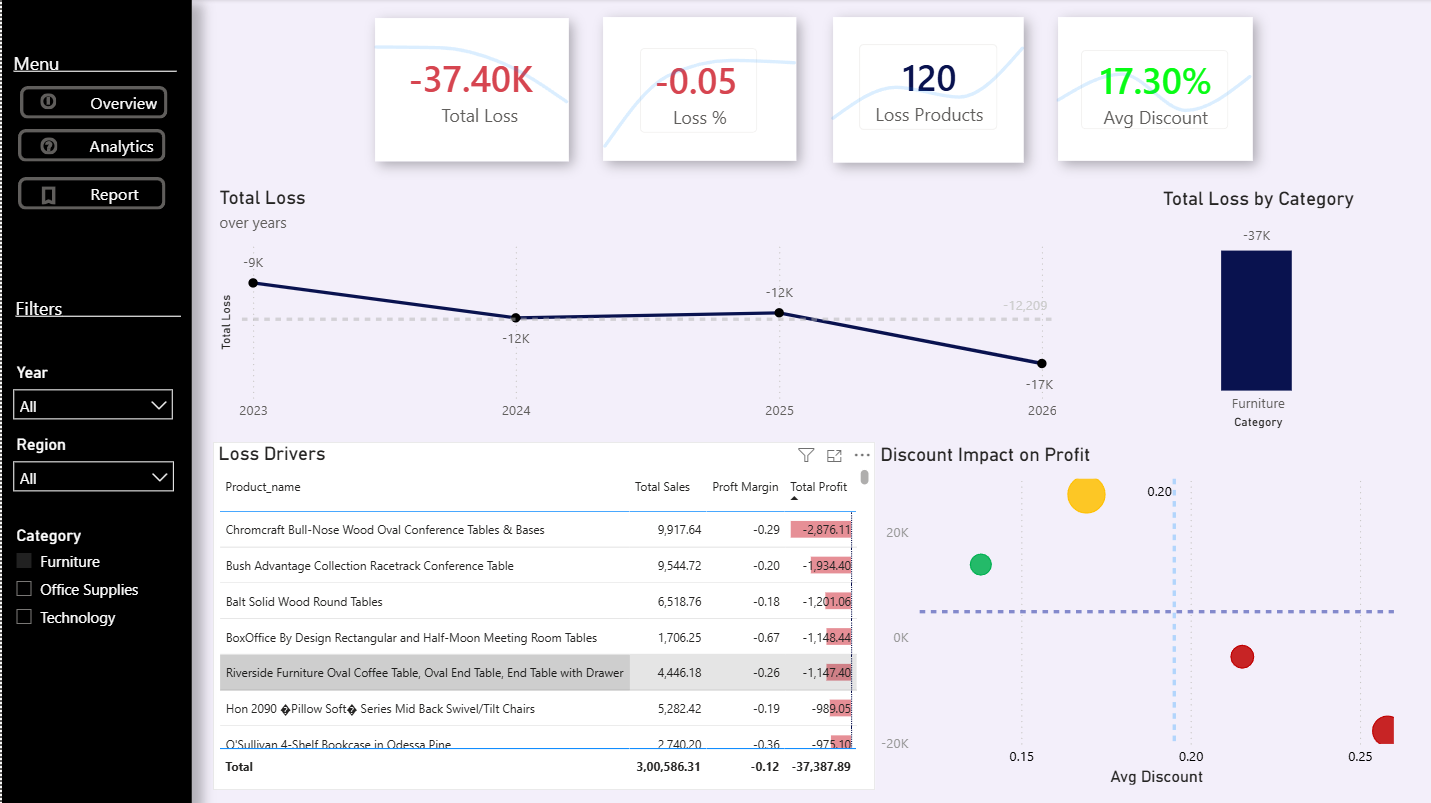

The dashboard page shown, as its layout file describes it:
{"tool":"powerbi","page":{"name":"Analytics","canvas":[1280,720],"ordinal":1},"visuals":[{"type":"shape","box":[318.1,0.8,205.8,160.5],"z":0},{"type":"tableEx","title":"Loss Drivers","fields":{"Values":["products_202604191955.Product_name","customers_202604191953.Total Sales","customers_202604191953.Proft Margin","customers_202604191953.Total Profit"]},"box":[189.4,396.6,592.8,311.5],"z":1000},{"type":"scatterChart","title":"Discount Impact on Profit","fields":{"X":["customers_202604191953.Avg Discount"],"Y":["customers_202604191953.Total Profit"],"Size":["customers_202604191953.Total Sales"],"Category":["products_202604191955.Sub Category"]},"box":[782.2,397.9,481.6,311.5],"z":2000},{"type":"shape","box":[0,0,170,720.2],"z":3000},{"type":"textbox","box":[6.9,260.7,157.8,37],"z":4000},{"type":"textbox","box":[5.5,41.2,156.4,37],"z":5000},{"type":"textbox","box":[74.6,78.3,145.5,36.7],"z":6000},{"type":"textbox","box":[73.4,116.2,145.5,37.9],"z":7000},{"type":"textbox","box":[74.6,159,145.5,36.7],"z":8000},{"type":"actionButton","box":[15.9,78.3,132.1,29.3],"z":9000},{"type":"actionButton","box":[14.7,116.2,132.1,29.3],"z":10000},{"type":"actionButton","box":[14.7,159,132.1,29.3],"z":11000},{"type":"actionButton","box":[30.6,80.7,58.7,22],"z":12000},{"type":"actionButton","box":[30.6,119.8,61.1,23.2],"z":13000},{"type":"actionButton","box":[29.3,163.9,61.1,24.5],"z":14000},{"type":"slicer","fields":{"Values":["orders_202604191948.order_date.Variation.Date Hierarchy.Year"]},"box":[0,321.1,163.3,81],"z":15000},{"type":"slicer","fields":{"Values":["products_202604191955.Category"]},"box":[0,467.1,159,132.1],"z":16000},{"type":"slicer","fields":{"Values":["customers_202604191953.region"]},"box":[0,386.4,163.9,59.9],"z":17000},{"type":"shape","box":[728.1,0.3,203,162.6],"z":18000},{"type":"shape","box":[929.3,0.3,206.7,161.1],"z":19000},{"type":"shape","box":[522.1,0.3,205.3,161.1],"z":20000},{"type":"cardVisual","fields":{"Data":["Date.Total Loss"]},"box":[334.8,26.1,186.6,109.8],"z":21000},{"type":"cardVisual","fields":{"Data":["Date.Loss %"]},"box":[554.5,27.2,139.4,110.1],"z":22000},{"type":"cardVisual","fields":{"Data":["Date.Loss Products"]},"box":[750.2,23.5,159,111.3],"z":23000},{"type":"cardVisual","fields":{"Data":["customers_202604191953.Avg Discount"]},"box":[949.5,28.4,166.3,105.2],"z":24000},{"type":"clusteredColumnChart","fields":{"Category":["products_202604191955.Category"],"Y":["Date.Total Loss"]},"box":[969.7,168.8,310.6,221.3],"z":25000},{"type":"lineChart","fields":{"Category":["orders_202604191948.order_date.Variation.Date Hierarchy.Quarter"],"Y":["Date.Total Loss"]},"box":[306.9,6.1,226.2,101.5],"z":25500},{"type":"lineChart","title":"Total Loss","fields":{"Y":["Date.Total Loss"],"Category":["orders_202604191948.order_date.Variation.Date Hierarchy.Year"]},"box":[189.5,167.5,759.4,218.9],"z":26000},{"type":"lineChart","fields":{"Category":["orders_202604191948.order_date.Variation.Date Hierarchy.Quarter"],"Y":["Date.Loss %"]},"box":[512.4,18.3,225,123.5],"z":27250},{"type":"lineChart","fields":{"Category":["orders_202604191948.order_date.Variation.Date Hierarchy.Quarter"],"Y":["customers_202604191953.Avg Discount"]},"box":[918.3,48.9,227.4,67.3],"z":27375},{"type":"lineChart","fields":{"Category":["orders_202604191948.order_date.Variation.Date Hierarchy.Quarter"],"Y":["Date.Loss Products"]},"box":[716.6,24.5,225,107.6],"z":27500}]}

Visuals, with their boxes on the page's 1280x720 design canvas (x1, y1, x2, y2). These are canvas units, not pixel positions in the 1431x803 screenshot, which may show the page scaled, cropped or inside an application window:
shape: region(318, 1, 524, 161)
"Loss Drivers" tableEx: region(189, 397, 782, 708)
"Discount Impact on Profit" scatterChart: region(782, 398, 1264, 709)
shape: region(0, 0, 170, 720)
textbox: region(7, 261, 165, 298)
textbox: region(6, 41, 162, 78)
textbox: region(75, 78, 220, 115)
textbox: region(73, 116, 219, 154)
textbox: region(75, 159, 220, 196)
actionButton: region(16, 78, 148, 108)
actionButton: region(15, 116, 147, 146)
actionButton: region(15, 159, 147, 188)
actionButton: region(31, 81, 89, 103)
actionButton: region(31, 120, 92, 143)
actionButton: region(29, 164, 90, 188)
slicer - orders_202604191948.order_date.Variation.Date Hierarchy.Year: region(0, 321, 163, 402)
slicer - products_202604191955.Category: region(0, 467, 159, 599)
slicer - customers_202604191953.region: region(0, 386, 164, 446)
shape: region(728, 0, 931, 163)
shape: region(929, 0, 1136, 161)
shape: region(522, 0, 727, 161)
cardVisual - Date.Total Loss: region(335, 26, 521, 136)
cardVisual - Date.Loss %: region(554, 27, 694, 137)
cardVisual - Date.Loss Products: region(750, 24, 909, 135)
cardVisual - customers_202604191953.Avg Discount: region(950, 28, 1116, 134)
clusteredColumnChart - products_202604191955.Category x Date.Total Loss: region(970, 169, 1280, 390)
lineChart - orders_202604191948.order_date.Variation.Date Hierarchy.Quarter x Date.Total Loss: region(307, 6, 533, 108)
"Total Loss" lineChart: region(190, 168, 949, 386)
lineChart - orders_202604191948.order_date.Variation.Date Hierarchy.Quarter x Date.Loss %: region(512, 18, 737, 142)
lineChart - orders_202604191948.order_date.Variation.Date Hierarchy.Quarter x customers_202604191953.Avg Discount: region(918, 49, 1146, 116)
lineChart - orders_202604191948.order_date.Variation.Date Hierarchy.Quarter x Date.Loss Products: region(717, 24, 942, 132)
